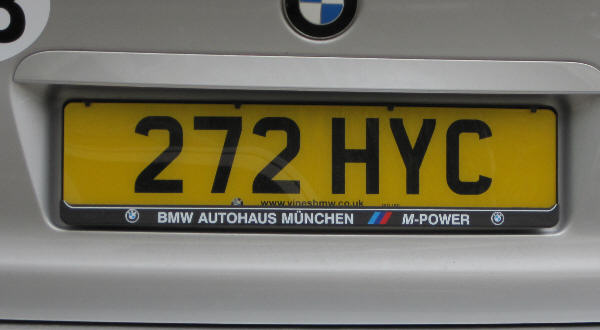license_plate: (60, 98, 560, 213)
